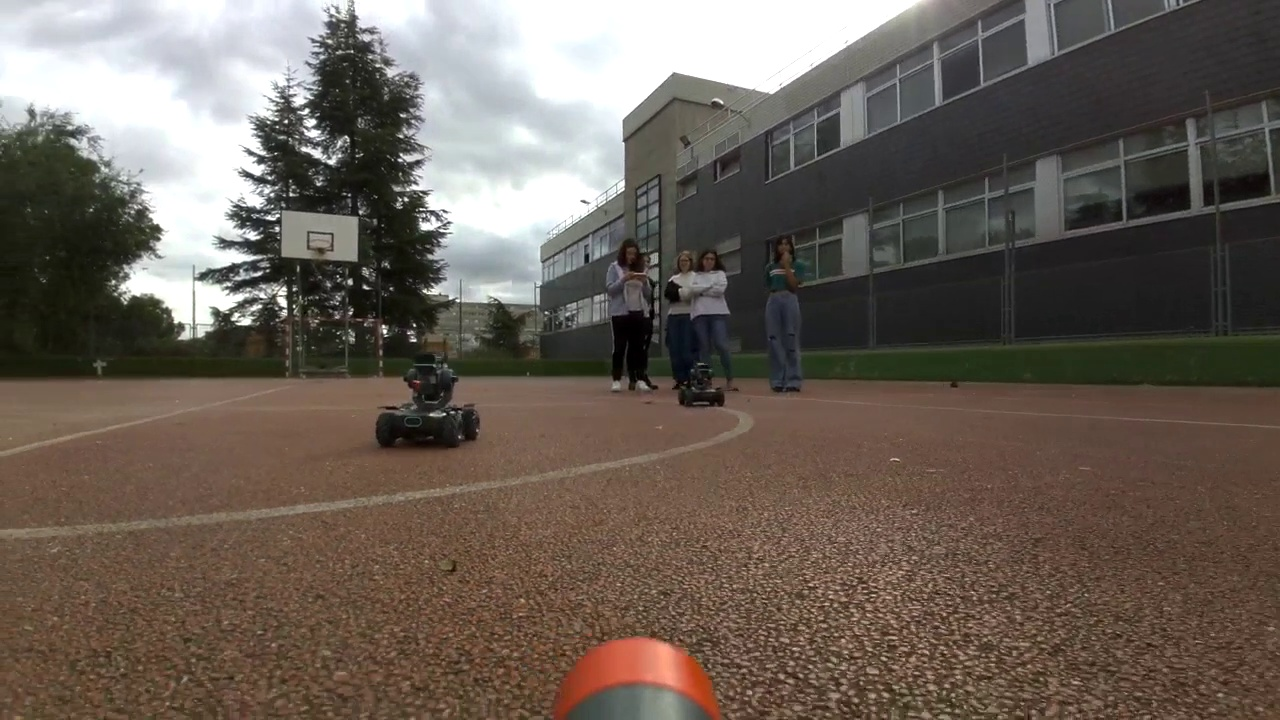robot: (376, 354, 478, 447), (678, 361, 726, 406)
